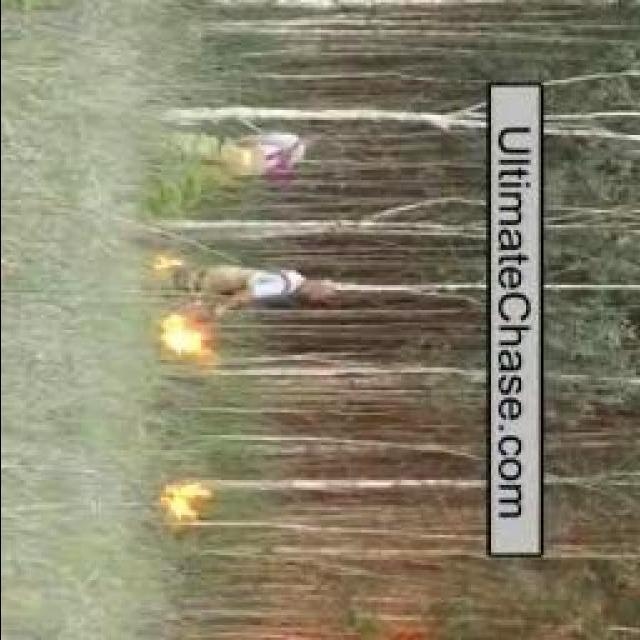Fire: (158, 480, 206, 526), (158, 314, 203, 356), (147, 250, 182, 272)
